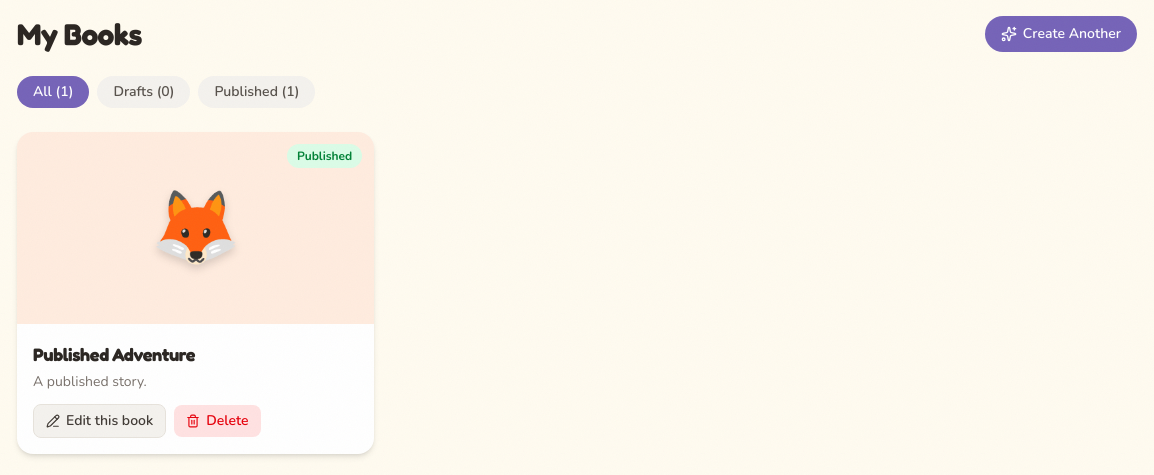
Test case: MyBooks — Edit this book (withdraw to edit) › withdraws a published book on confirm and flips the card to draft
Expected: the text "Published" is shown, [287,144,362,168]
Click the button "Edit this book": (100, 421) [33,404,166,438]
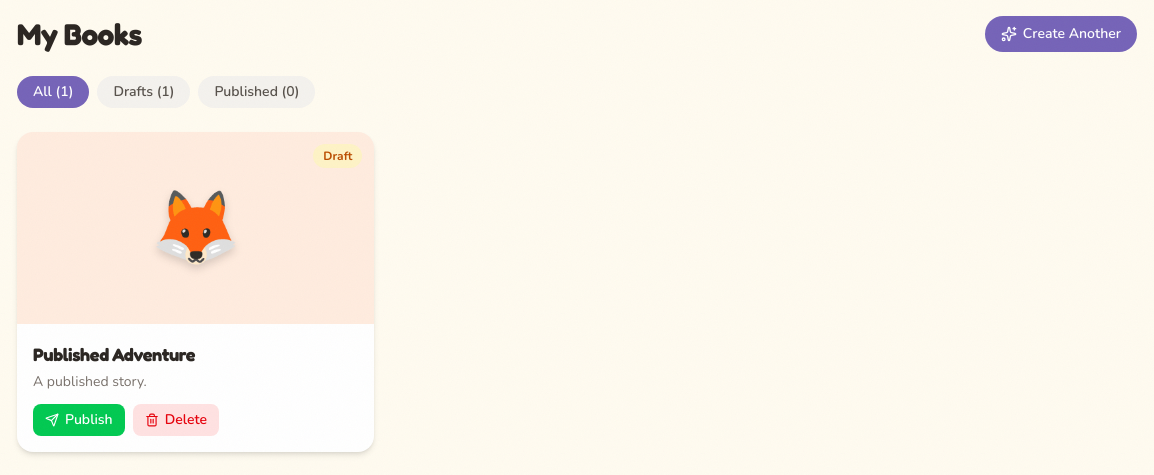
Expected: the text "Draft" is shown, [313,144,362,168]
Expected: the button with aria-label "publish book" is shown, [33,404,125,436]
